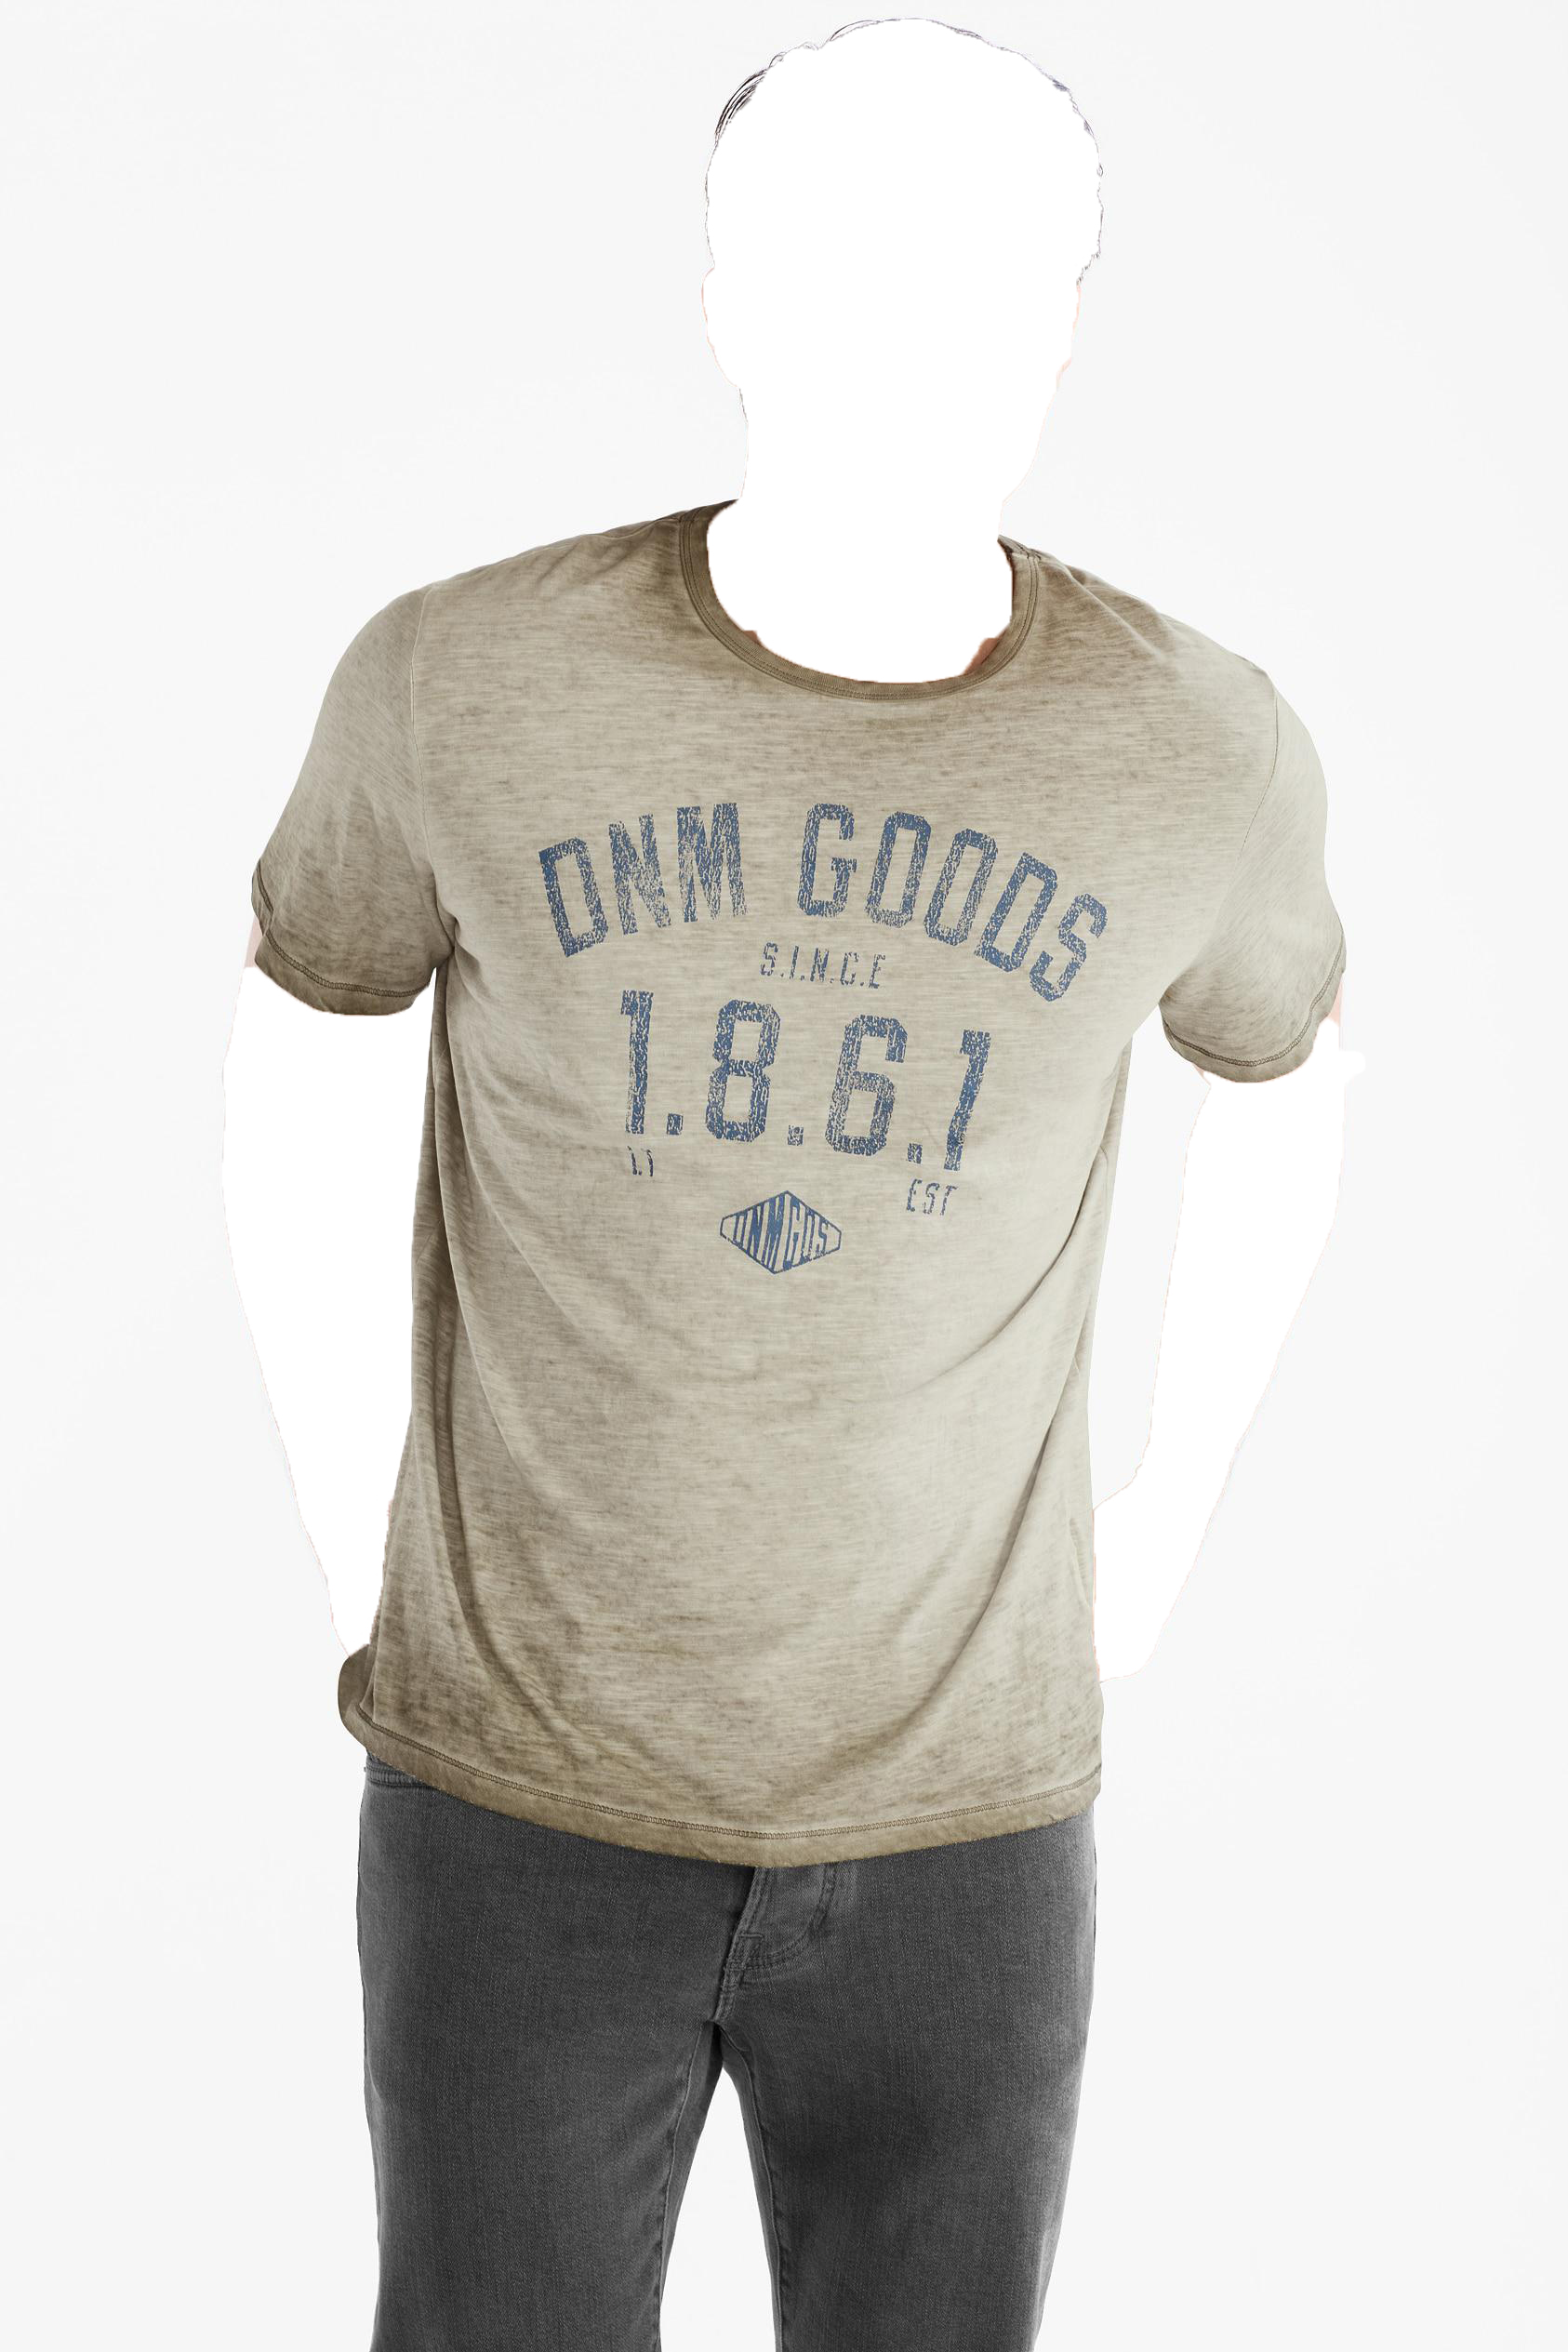teeshirt: (238, 499, 1347, 1869)
